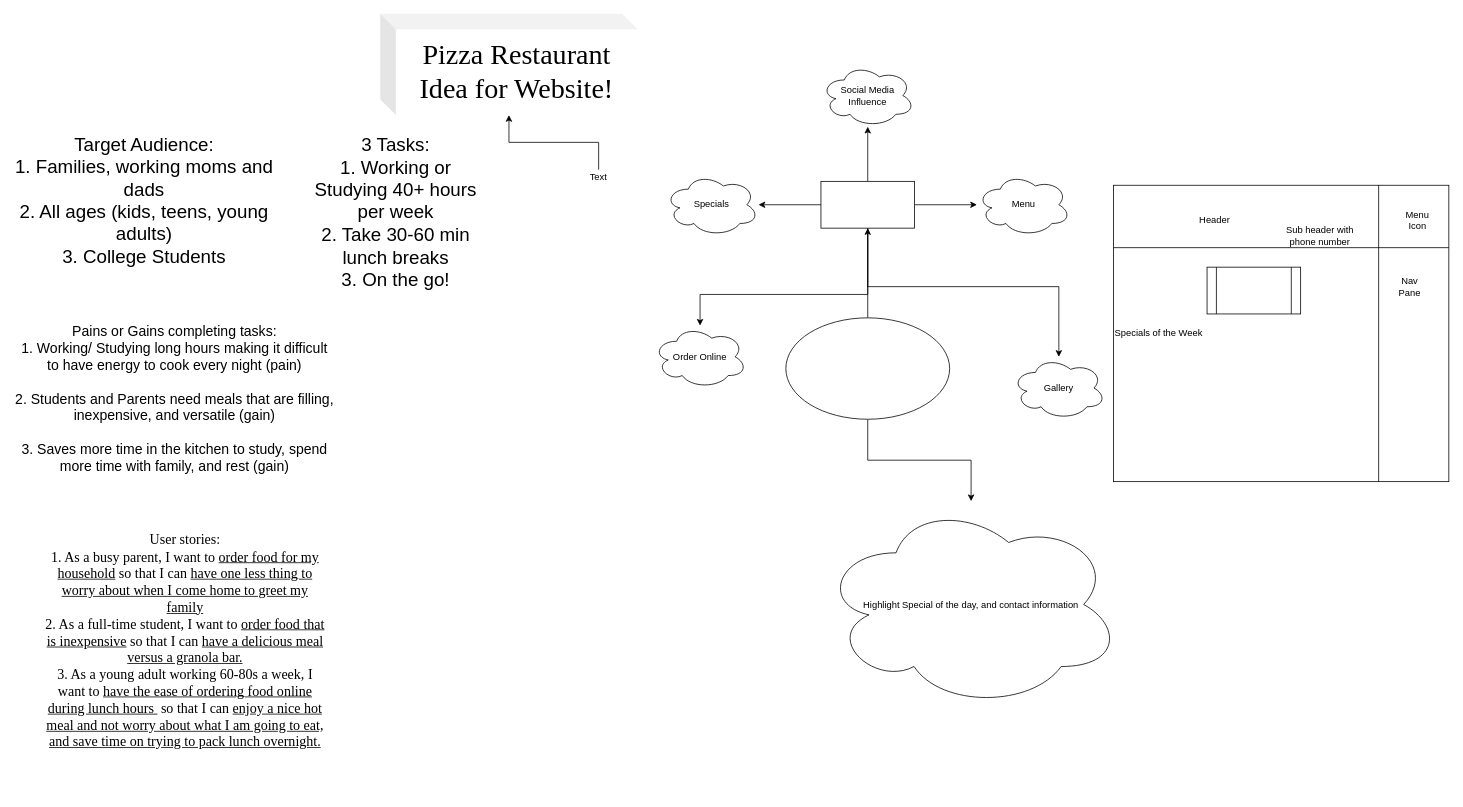
Some shapes in this 1463 by 807 pixel diagram are drawn without their labels. Each missing label, with the box of its shape:
Home Page: (785, 317, 950, 419)
Navigation Bar: (820, 181, 915, 228)
Pictures of the Pizza: (1206, 266, 1301, 314)
